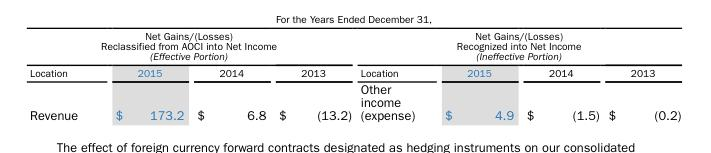table: (29, 29, 680, 121)
table column: (95, 29, 189, 121), (429, 29, 519, 121), (271, 29, 355, 121), (519, 29, 603, 121), (189, 29, 271, 121), (603, 29, 680, 121), (355, 29, 429, 121), (29, 29, 95, 121)
table column header: (29, 29, 680, 79)
table row: (29, 79, 680, 121), (29, 29, 680, 63), (29, 63, 680, 79)
table spanning cell: (29, 29, 355, 63), (355, 29, 680, 63)
